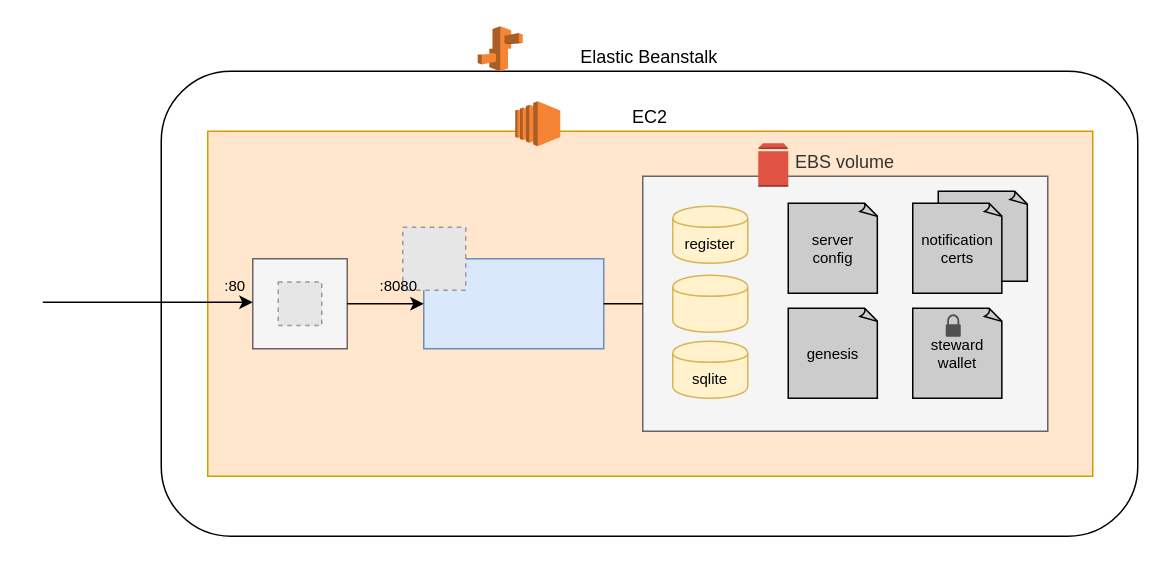
Image size: 1164x563. Some labels were removed from this diagram. Grey dashed boxes stand in for pictures. Each missing label, with the box of its shape:
bolt: (671, 274, 748, 332)
findy-agent: (422, 257, 604, 349)
nginx: (251, 257, 347, 349)
